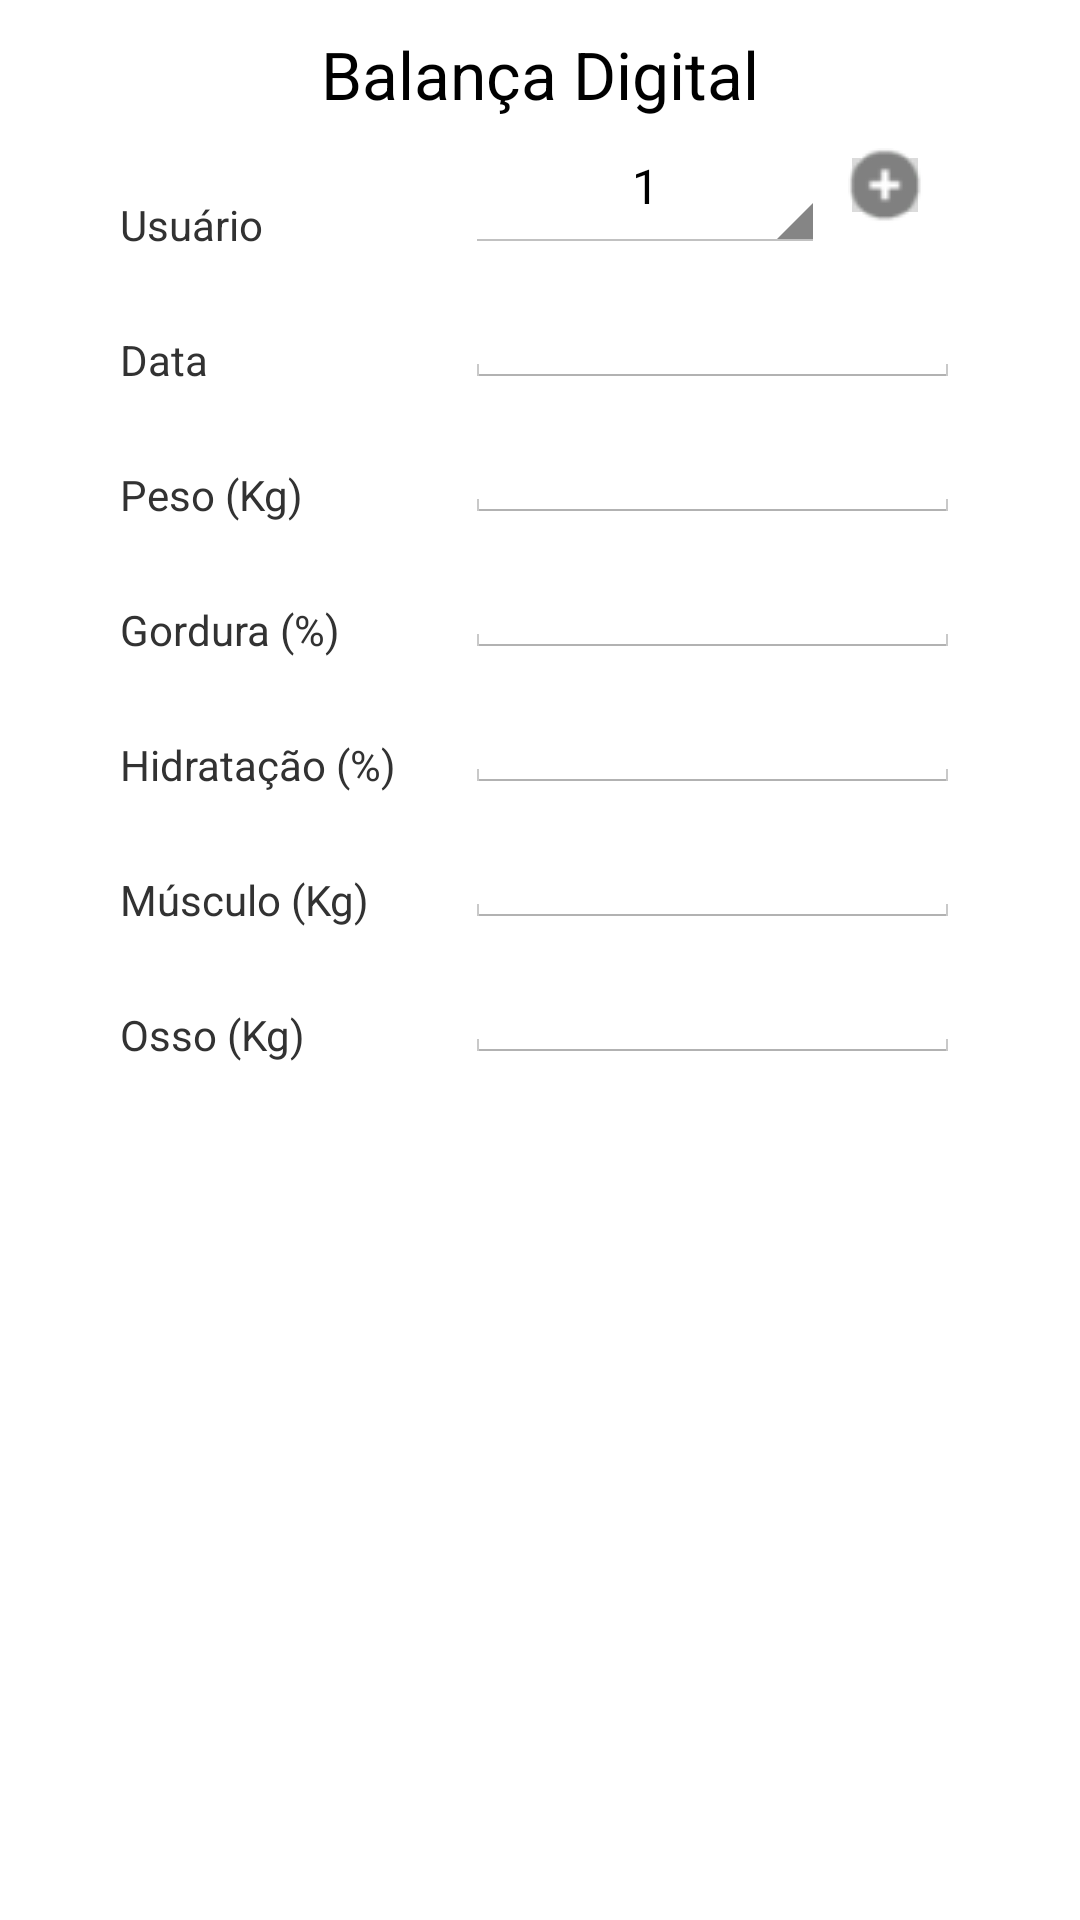

Icons on this 1080*1920 Android screen, each with its box as (x1, y1, x2, y2):
adicionar usuário: (850, 150, 920, 220)
